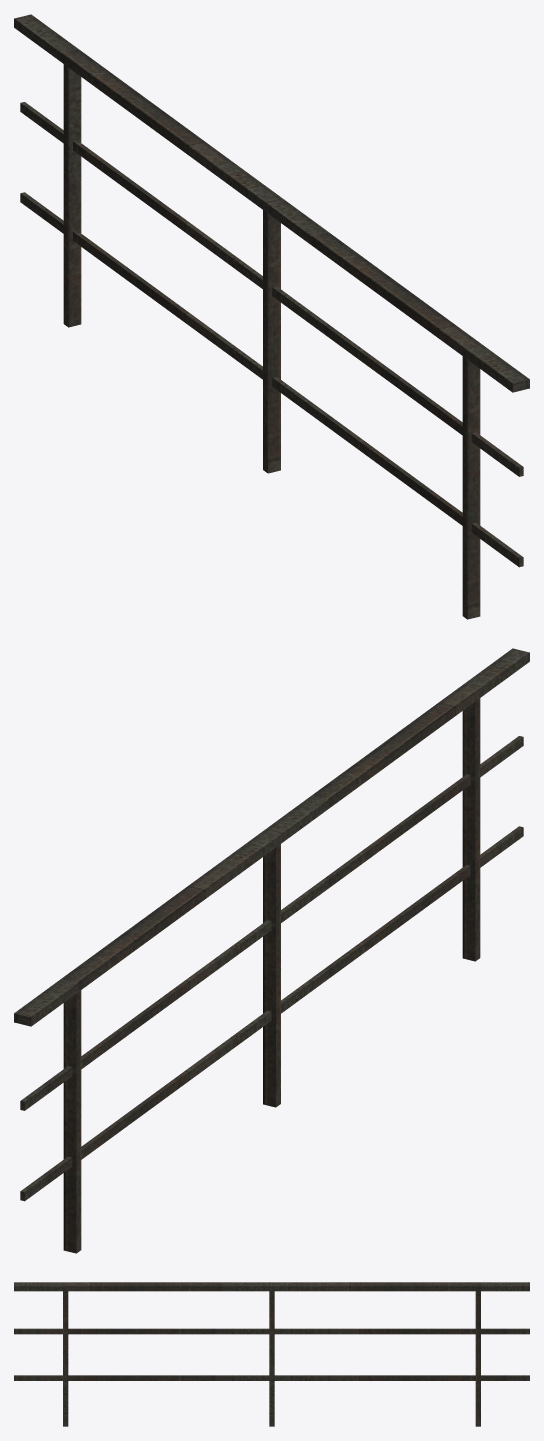
Rendered from platform_b_handrail_1.obj.
3 views of the same model, one above another, from view 1: azimuth 30°, elevation 25°; view 2: azimuth 150°, elevation 25°; view 3: azimuth 270°, elevation 25° (orthographic). The views are drawn at different scales.
Visible parts, largest first — view 1: platform_b_handrail_1; view 2: platform_b_handrail_1; view 3: platform_b_handrail_1.
Boxes of the visible parts, x1,y1,x2,y2 form: platform_b_handrail_1: [14, 14, 529, 619]; platform_b_handrail_1: [14, 648, 529, 1253]; platform_b_handrail_1: [14, 1282, 529, 1426].
Size of the model in its own units: 0.08 by 1.2 by 4.
